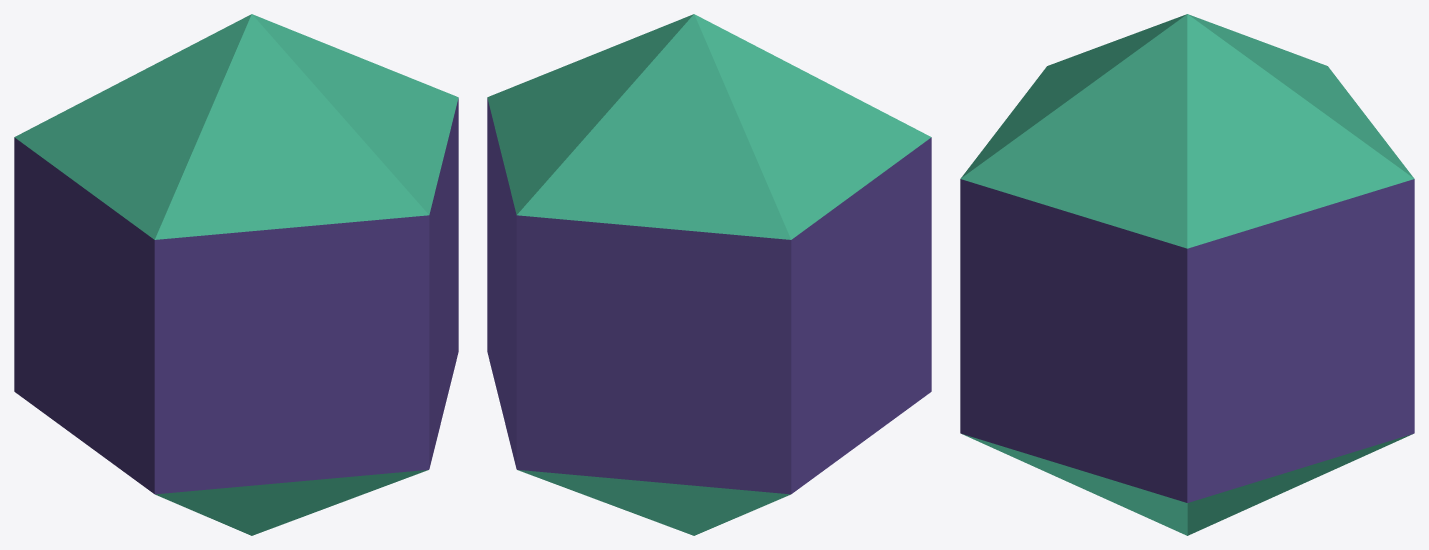
File: J16.BipiramidePentagonalElongada.gltf
3 renders of one model, left to right at view 1: azimuth 30°, elevation 25°; view 2: azimuth 150°, elevation 25°; view 3: azimuth 270°, elevation 25°, orthographic.
Visible parts, largest first — view 1: J16.BipiramidePentagonalElongada; view 2: J16.BipiramidePentagonalElongada; view 3: J16.BipiramidePentagonalElongada.
Boxes of the visible parts, x1,y1,x2,y2 form: J16.BipiramidePentagonalElongada: (14, 14, 458, 535); J16.BipiramidePentagonalElongada: (487, 14, 931, 535); J16.BipiramidePentagonalElongada: (960, 14, 1414, 535).
Bounding box in the file's own units: 15 × 20 × 15.77.
